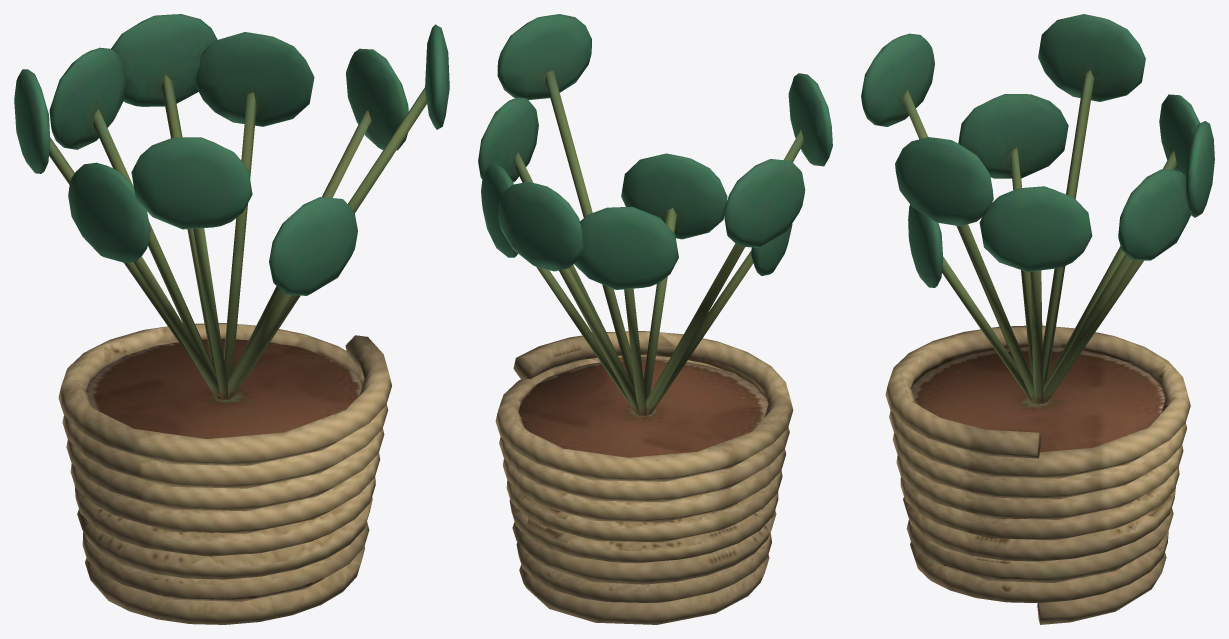
File: plant_round.glb
3 renders of one model, left to right at view 1: azimuth 30°, elevation 25°; view 2: azimuth 150°, elevation 25°; view 3: azimuth 270°, elevation 25°, orthographic. The views are drawn at different scales.
Parts seen in each view (by area): view 1: prop_plant_round_felt; view 2: prop_plant_round_felt; view 3: prop_plant_round_felt.
Boxes of the visible parts, left/top/right/bottom form: prop_plant_round_felt: left=14, top=14, right=449, bottom=624; prop_plant_round_felt: left=478, top=14, right=832, bottom=624; prop_plant_round_felt: left=861, top=14, right=1214, bottom=624.
Size of the model in its own units: 0.8318 by 1.19 by 0.7485.
Materials: 1 (1 with a texture image).
